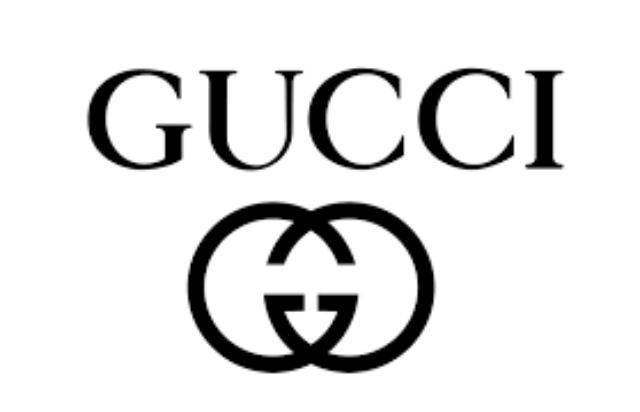Gucci: (70, 38, 584, 184), (180, 191, 440, 379)
